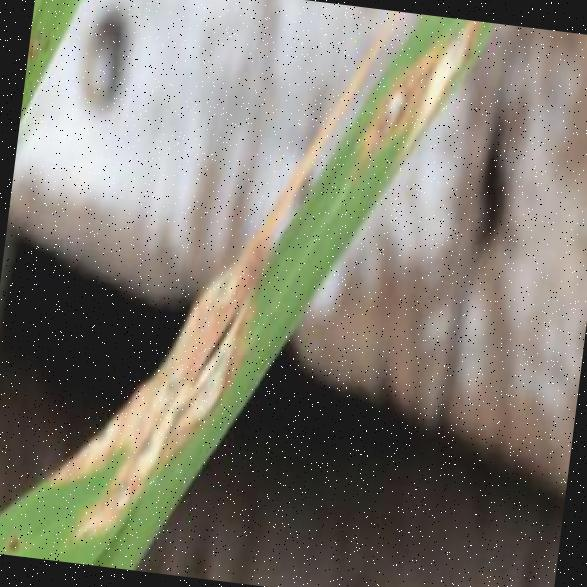Leaf_smut: (392, 14, 506, 127), (368, 73, 423, 139)
